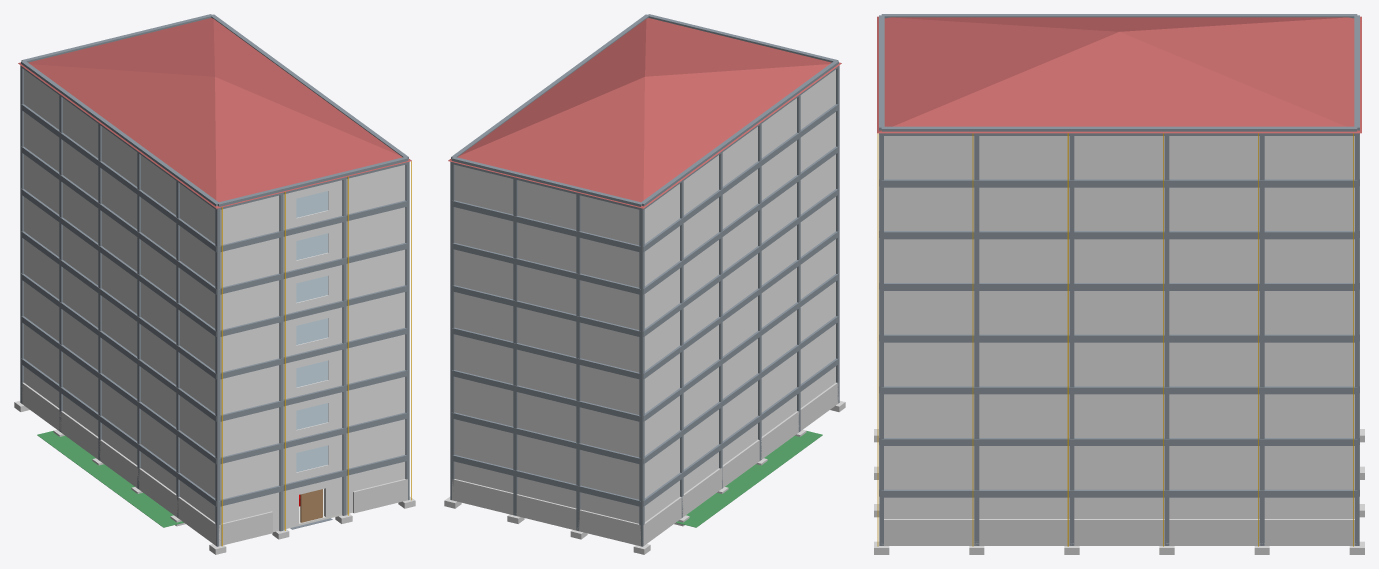
Rendered from generated_building_17.glb.
3 views of the same model, side by side, from view 1: azimuth 30°, elevation 25°; view 2: azimuth 150°, elevation 25°; view 3: azimuth 270°, elevation 25° (orthographic). The views are drawn at different scales.
Parts seen in each view (by area): view 1: architectural, structural, landscape, windows, electrical, doors; view 2: architectural, structural, landscape; view 3: architectural, structural, landscape, electrical.
Boxes of the visible parts, bbox=[...] form: architectural: bbox=[18, 18, 411, 531]; structural: bbox=[14, 14, 415, 554]; landscape: bbox=[21, 382, 407, 546]; windows: bbox=[296, 191, 328, 472]; electrical: bbox=[221, 161, 411, 546]; doors: bbox=[300, 489, 322, 522]; architectural: bbox=[448, 18, 841, 523]; structural: bbox=[444, 14, 845, 554]; landscape: bbox=[452, 382, 838, 546]; architectural: bbox=[877, 16, 1361, 518]; structural: bbox=[874, 14, 1364, 554]; landscape: bbox=[882, 519, 1355, 545]; electrical: bbox=[877, 133, 1353, 546].
Bounding box in the file's own units: 15.9 × 26.9 × 25.8.
